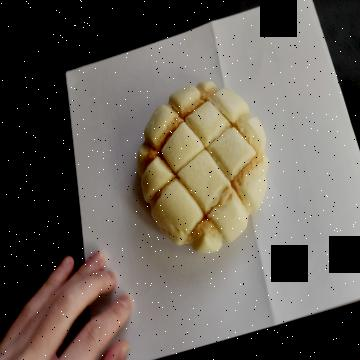melon_bread: (137, 80, 272, 258)
